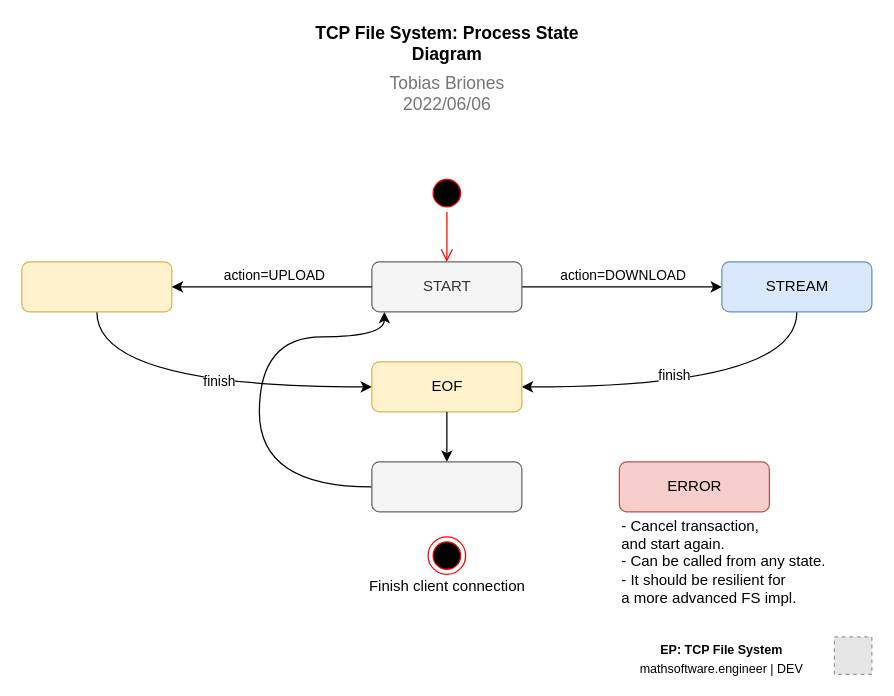
This 894x696 diagram has some shape labels left out. Grey dashed boxes stand in for pictures. Here are the shapes that lost their labels. From the top down, the centre of each, then its label:
[96,286]: DATA
[446,486]: DONE
